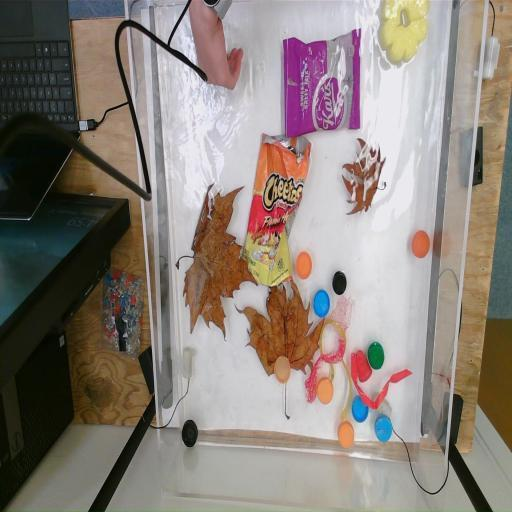Bottle Cap: (312, 288, 330, 320), (368, 340, 386, 372), (411, 229, 430, 259), (337, 419, 355, 449), (352, 394, 370, 424), (374, 415, 392, 443), (296, 250, 312, 280), (182, 419, 198, 449), (316, 378, 334, 404), (275, 356, 290, 384), (332, 270, 347, 294)
Cone Cap: (356, 349, 373, 383)
Leaf: (184, 183, 258, 345), (236, 277, 324, 381), (342, 136, 386, 216)
Netting: (304, 338, 346, 402), (327, 296, 354, 334)
Plastic Bag: (242, 134, 312, 286), (281, 30, 362, 140)
Plastic Strand: (349, 347, 414, 410), (320, 320, 354, 423)
